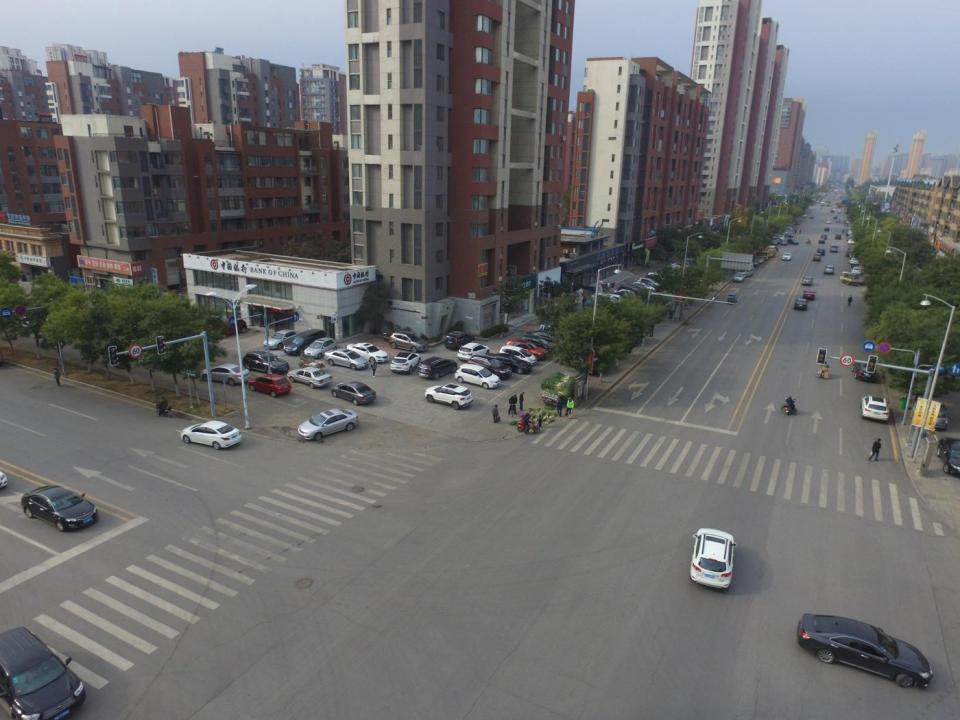car: (797, 609, 933, 690), (0, 624, 91, 719), (22, 485, 101, 531), (689, 527, 737, 591), (299, 409, 358, 442), (180, 419, 244, 449), (424, 380, 472, 410), (241, 350, 290, 376), (283, 328, 326, 356), (331, 380, 377, 406), (249, 372, 293, 399), (455, 364, 500, 390), (915, 399, 949, 432), (343, 341, 389, 365), (468, 355, 511, 380), (201, 364, 252, 385), (325, 346, 366, 372), (418, 355, 458, 380), (204, 316, 249, 338), (524, 330, 567, 353), (487, 354, 533, 375), (936, 436, 960, 476), (288, 367, 331, 388), (506, 340, 546, 362), (859, 394, 890, 422), (389, 331, 428, 353), (499, 346, 536, 366), (264, 329, 299, 350), (391, 350, 421, 374), (302, 339, 338, 358), (458, 342, 491, 362), (443, 331, 475, 350), (852, 359, 876, 381), (792, 298, 808, 311), (800, 275, 816, 287), (802, 290, 816, 300), (733, 272, 745, 283), (740, 267, 753, 277), (845, 247, 856, 257), (824, 265, 835, 274), (782, 252, 792, 261), (851, 267, 861, 276), (754, 255, 764, 264), (787, 238, 799, 245), (848, 257, 858, 265), (760, 252, 770, 260), (830, 245, 838, 253), (813, 253, 821, 261), (818, 248, 826, 256), (750, 260, 759, 267), (818, 238, 825, 244), (835, 234, 842, 239), (824, 227, 830, 230)
truck: (840, 272, 862, 284)
